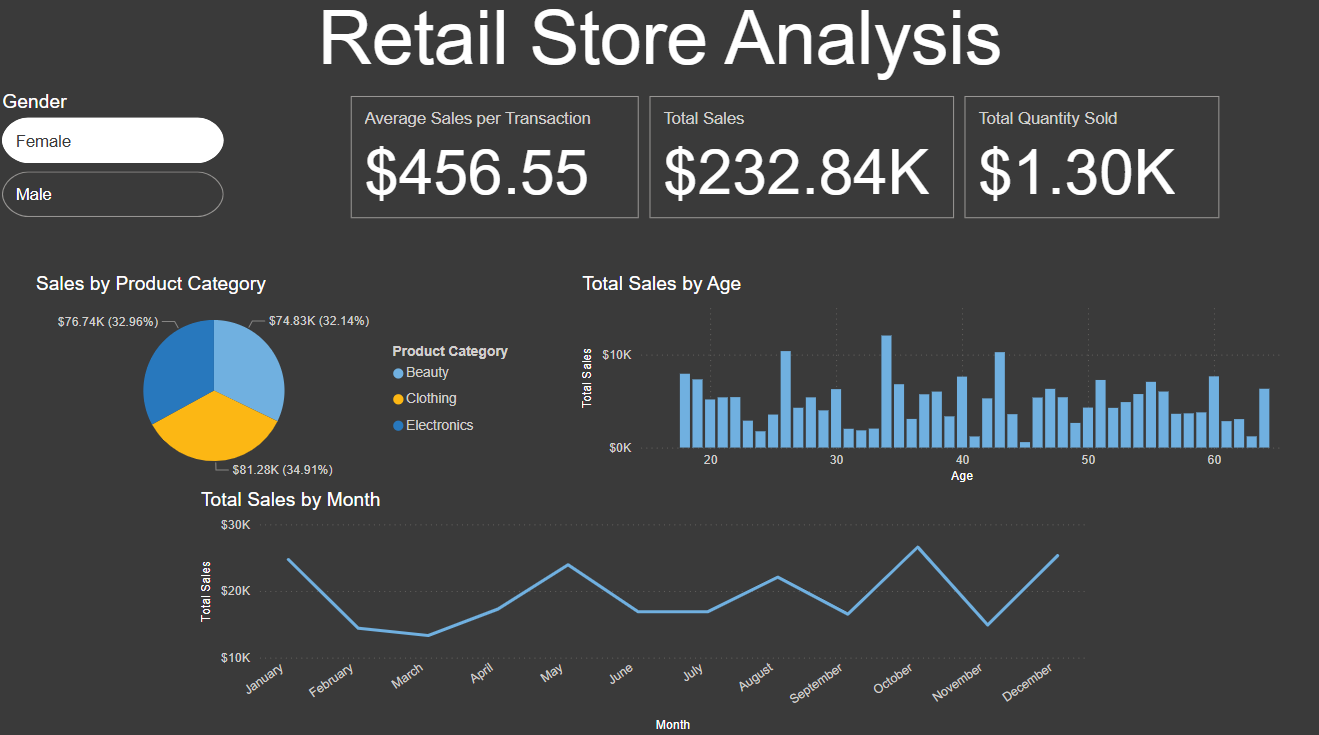

The dashboard page shown, as its layout file describes it:
{"tool":"powerbi","page":{"name":"Retail Store Sales Analysis Dashboard","canvas":[1280,720],"ordinal":0},"visuals":[{"type":"group","id":"g1","title":"Group 1","box":[0,96,224,128],"z":0},{"type":"advancedSlicerVisual","fields":{"Values":["retail_sales_dataset.Gender"]},"box":[0,96,224,128],"z":0,"group":"g1"},{"type":"cardVisual","fields":{"Data":["retail_sales_dataset.Average Sales per Transaction"]},"box":[336,96,288,128],"z":0,"group":"g3"},{"type":"cardVisual","fields":{"Data":["retail_sales_dataset.Total Sales"]},"box":[624,96,304,128],"z":1000,"group":"g3"},{"type":"pieChart","title":"Sales by Product Category","fields":{"Y":["retail_sales_dataset.Total Sales"],"Series":["retail_sales_dataset.Product Category"]},"box":[32,272,480,208],"z":1000},{"type":"cardVisual","fields":{"Data":["retail_sales_dataset.Total Quantity Sold"]},"box":[928,96,256,128],"z":2000,"group":"g3"},{"type":"group","id":"g2","title":"Group 3","box":[192,480,864,240],"z":2000},{"type":"lineChart","fields":{"Category":["retail_sales_dataset.Date.Variation.Date Hierarchy.Month","retail_sales_dataset.Date.Variation.Date Hierarchy.Day"],"Y":["retail_sales_dataset.Total Sales"]},"box":[192,480,864,240],"z":2000,"group":"g2"},{"type":"columnChart","fields":{"Y":["retail_sales_dataset.Total Sales"],"Category":["retail_sales_dataset.Age"]},"box":[560,272,688,208],"z":3000},{"type":"textbox","box":[0,0,1280,96],"z":4000},{"type":"actionButton","box":[0,0,100,40],"z":5000},{"type":"group","id":"g3","title":"Group 2","box":[336,96,848,128],"z":6000}]}

Visuals, with their boxes in screenshot pixels (x1, y1, x2, y2), scaled from the page's 1280x720 canvas onto the 1319x735 screenshot:
"Group 1" group: (0,98,231,229)
advancedSlicerVisual - retail_sales_dataset.Gender: (0,98,231,229)
cardVisual - retail_sales_dataset.Average Sales per Transaction: (346,98,643,229)
cardVisual - retail_sales_dataset.Total Sales: (643,98,956,229)
"Sales by Product Category" pieChart: (33,278,528,490)
cardVisual - retail_sales_dataset.Total Quantity Sold: (956,98,1220,229)
"Group 3" group: (198,490,1088,734)
lineChart - retail_sales_dataset.Date.Variation.Date Hierarchy.Month x retail_sales_dataset.Date.Variation.Date Hierarchy.Day: (198,490,1088,734)
columnChart - retail_sales_dataset.Total Sales x retail_sales_dataset.Age: (577,278,1286,490)
textbox: (0,0,1318,98)
actionButton: (0,0,103,41)
"Group 2" group: (346,98,1220,229)
